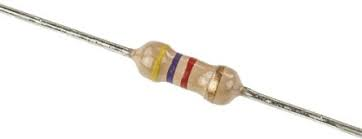resistor: (104, 33, 254, 114)
